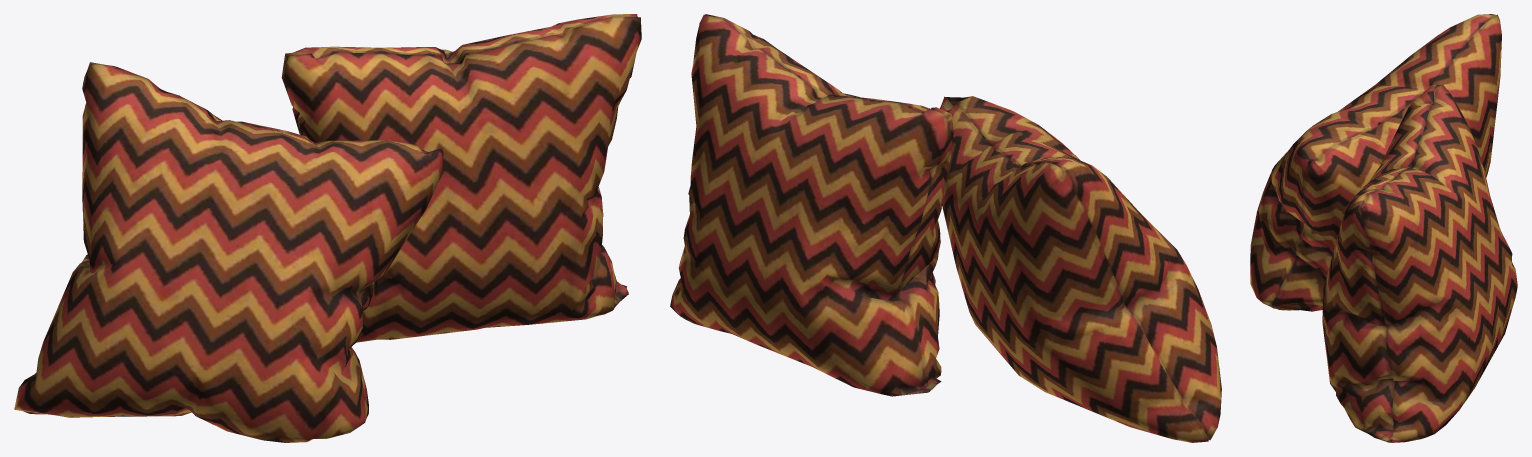
The model's file is pillows.glb.
3 views of the same model, side by side, from view 1: azimuth 30°, elevation 25°; view 2: azimuth 150°, elevation 25°; view 3: azimuth 270°, elevation 25° (orthographic). The views are drawn at different scales.
Visible parts, largest first — view 1: throw_pillows_01_pillow02; view 2: throw_pillows_01_pillow02; view 3: throw_pillows_01_pillow02.
Part boxes in pixels (box(x1,y1,x2,y2)): throw_pillows_01_pillow02: box(14, 14, 641, 442); throw_pillows_01_pillow02: box(670, 14, 1221, 442); throw_pillows_01_pillow02: box(1250, 14, 1517, 442).
Size of the model in its own units: 0.9401 by 0.4499 by 0.4503.
Materials: 1 (1 with a texture image).
